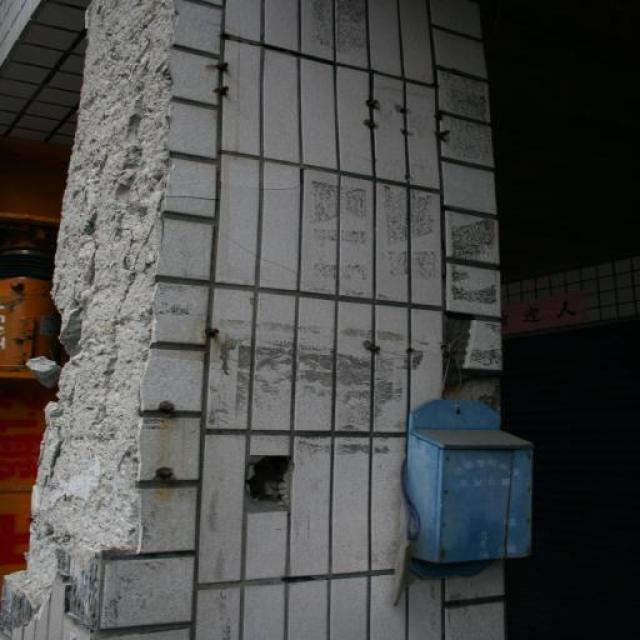D10: (1, 0, 175, 639), (441, 315, 499, 410), (245, 454, 291, 512)
